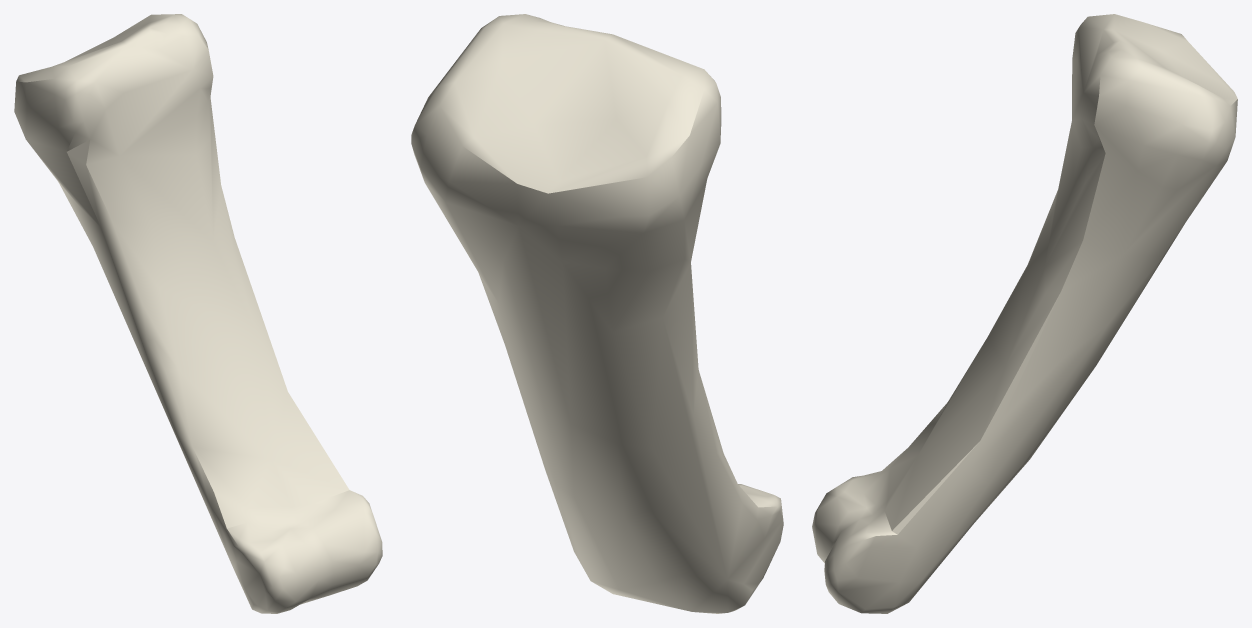
Rendered from fma24452_fj6421.glb.
The picture shows the model from 3 angles, left to right: view 1: azimuth 30°, elevation 25°; view 2: azimuth 150°, elevation 25°; view 3: azimuth 270°, elevation 25°; orthographic projection. The views are drawn at different scales.
Parts seen in each view (by area): view 1: FMA24452_FJ6421; view 2: FMA24452_FJ6421; view 3: FMA24452_FJ6421.
Part boxes in pixels (x1,y1,x2,y2): FMA24452_FJ6421: [14, 14, 382, 613]; FMA24452_FJ6421: [411, 14, 783, 613]; FMA24452_FJ6421: [812, 14, 1237, 613].
Bounding box in the file's own units: 0.0182 × 0.0406 × 0.0292.
